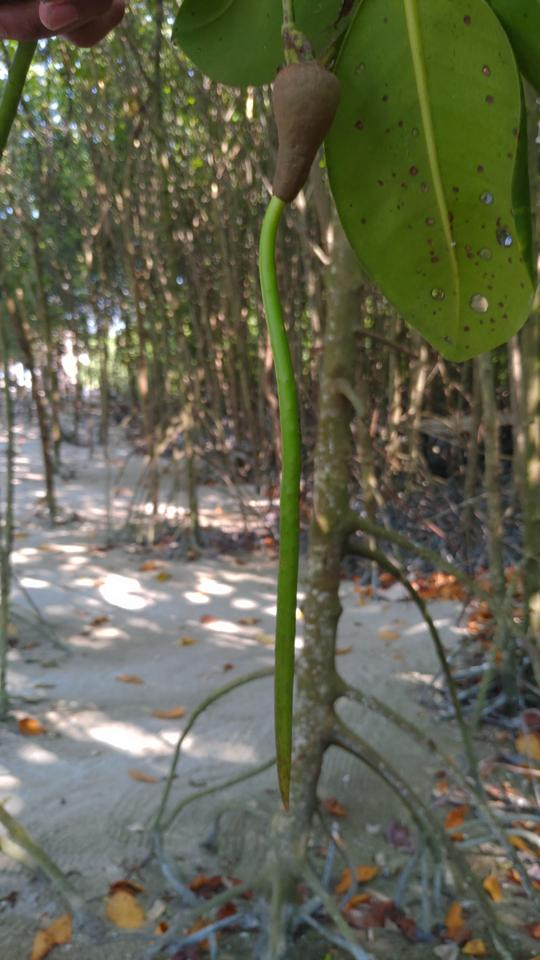mentah: (228, 26, 360, 815)
